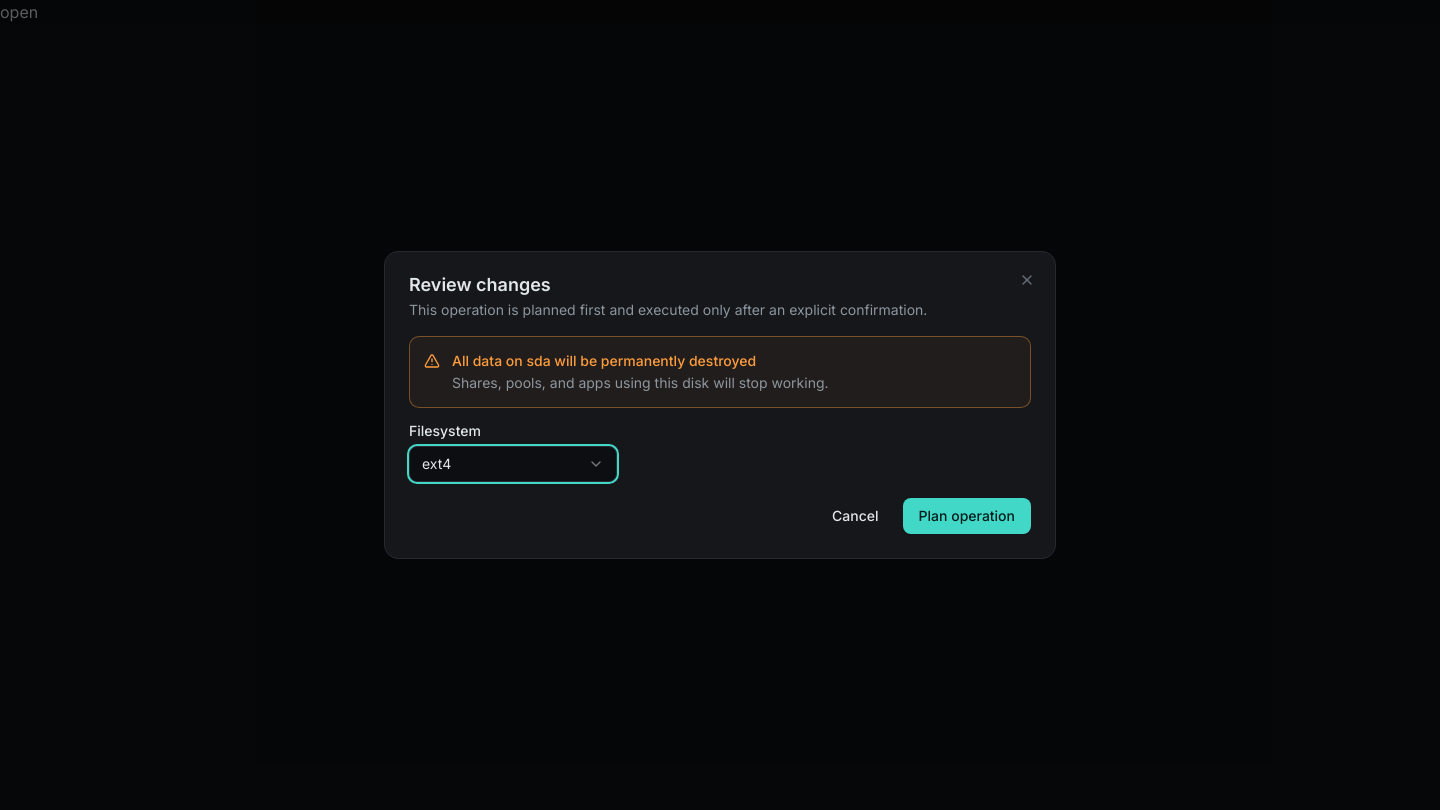
Scenario: DiskOperationsDialog › surfaces plan rejection errors
Click the button "Plan operation": [967, 516] box [903,498,1031,534]
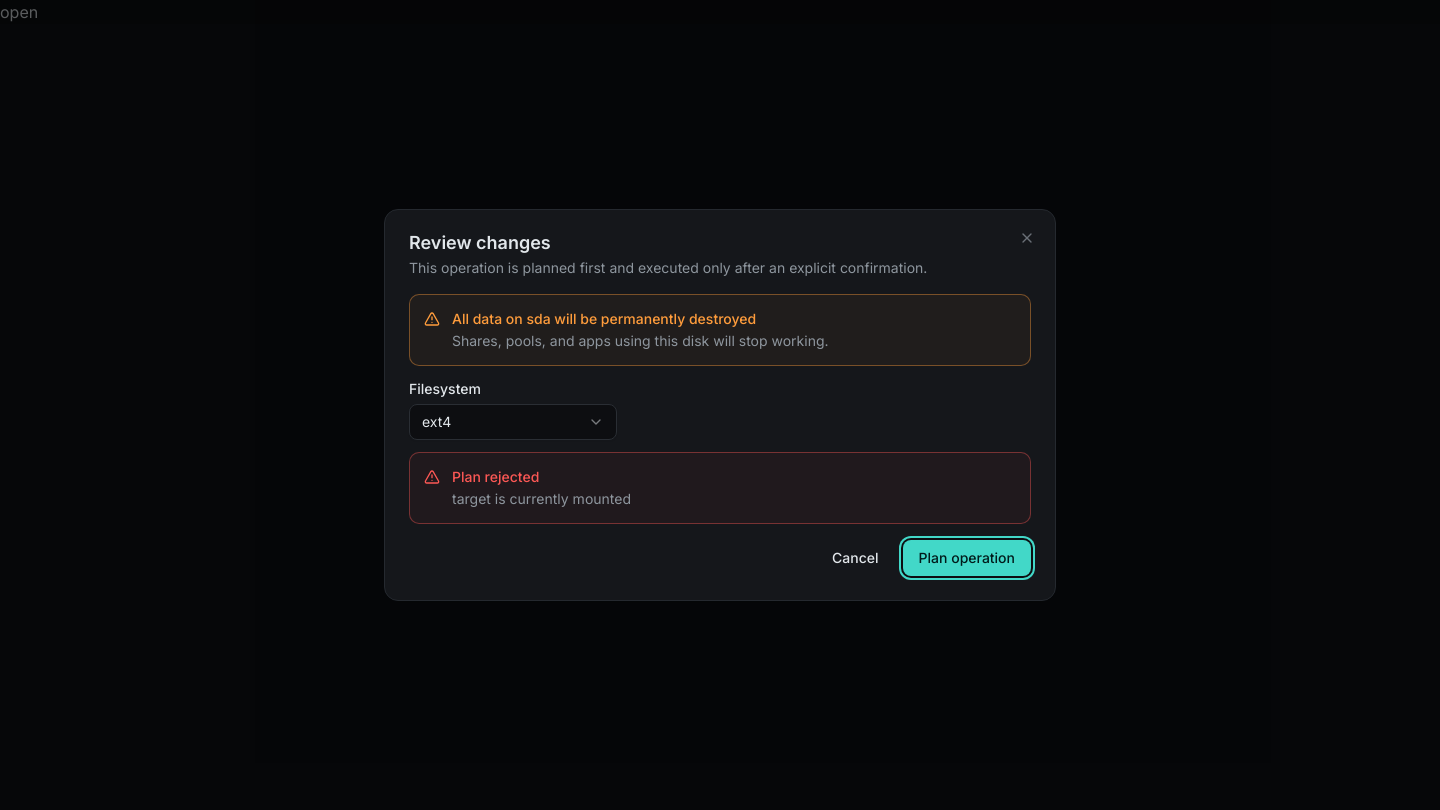
Result: the text "Plan rejected" is shown at [452,468,539,485]
Result: the text "target is currently mounted" is shown at [452,490,631,507]
